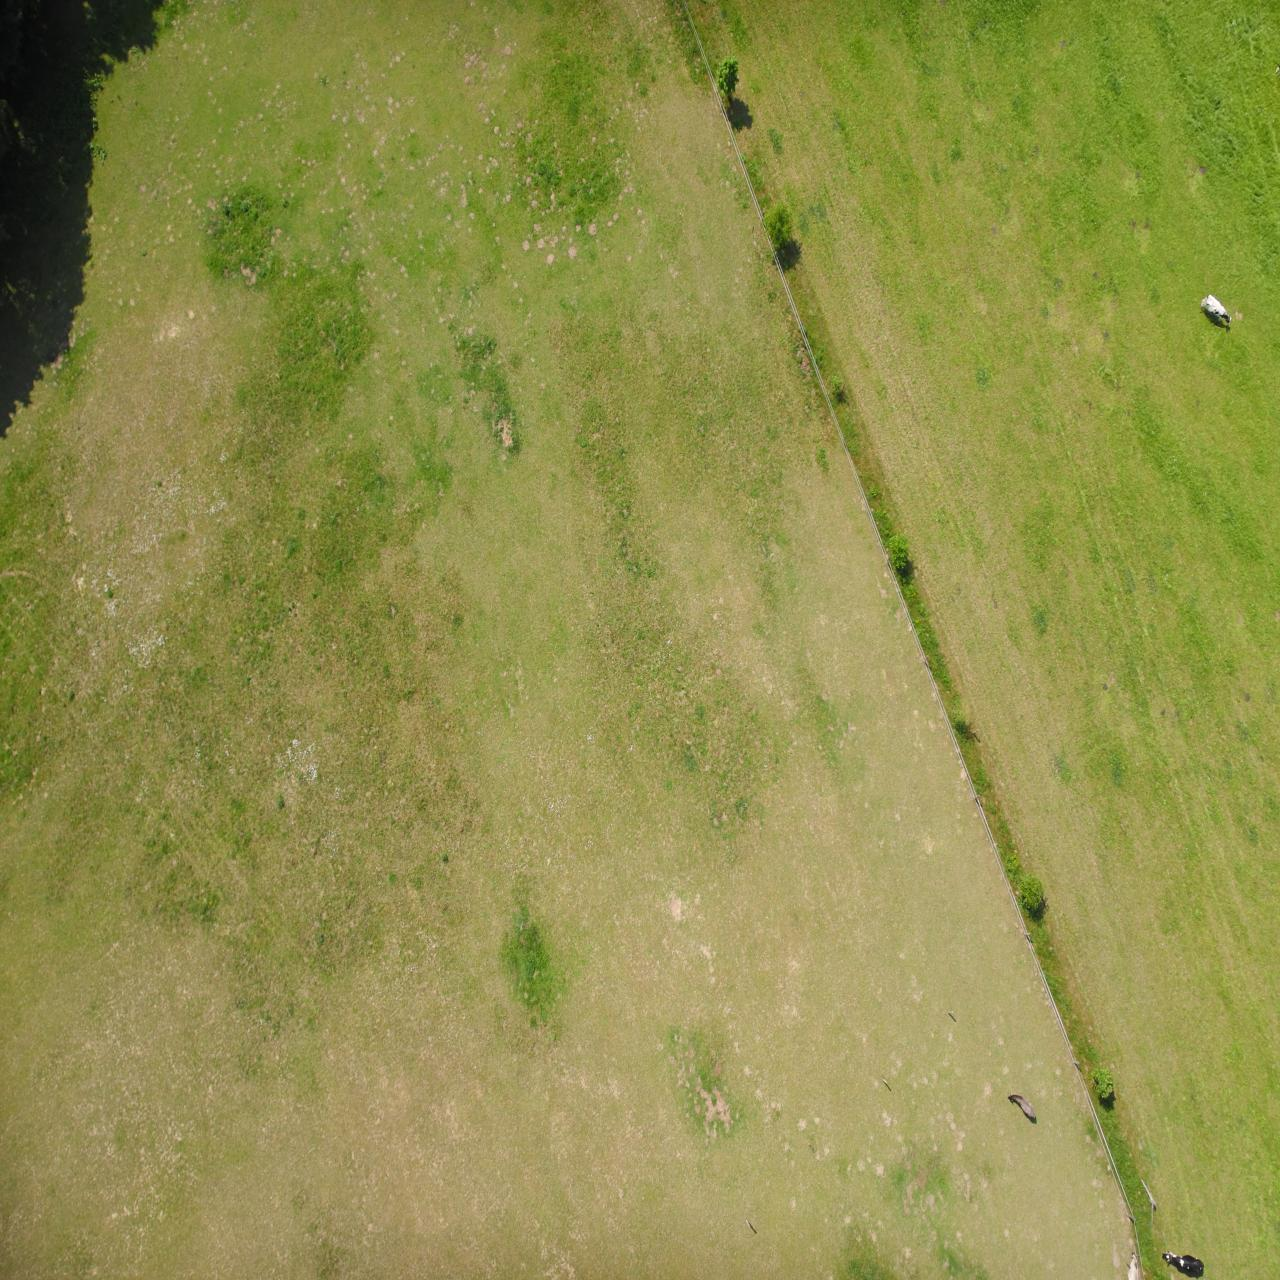cow: (76, 5, 113, 32), (48, 956, 80, 986)
